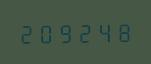eight: (113, 19, 131, 43)
four: (94, 19, 112, 43)
nine: (56, 20, 74, 44)
two: (17, 21, 35, 44), (75, 20, 93, 43)
zero: (36, 20, 54, 44)
